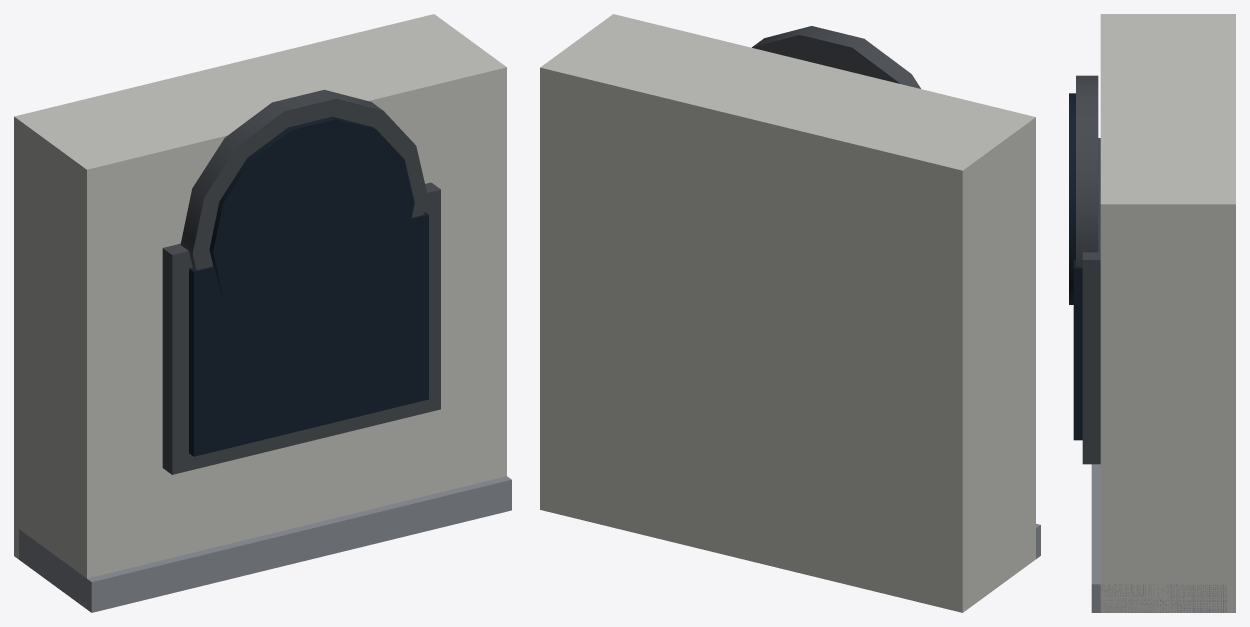
The model's file is republic_wall_port.glb.
The picture shows the model from 3 angles, left to right: view 1: azimuth 30°, elevation 25°; view 2: azimuth 150°, elevation 25°; view 3: azimuth 270°, elevation 25°; orthographic projection. The views are drawn at different scales.
Parts seen in each view (by area): view 1: republic_wall_port; view 2: republic_wall_port; view 3: republic_wall_port.
Boxes of the visible parts, <box> form: republic_wall_port: <box>14,14,511,612</box>; republic_wall_port: <box>540,14,1040,612</box>; republic_wall_port: <box>1069,14,1235,612</box>.
Bounding box in the file's own units: 1 × 1.05 × 0.37.
